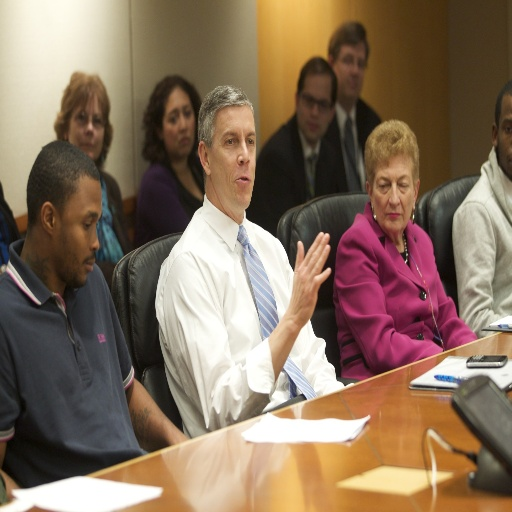hand: (286, 228, 333, 326)
